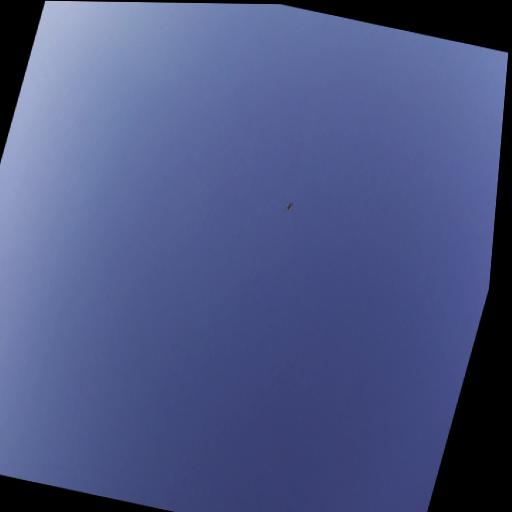drones: (281, 195, 299, 217)
